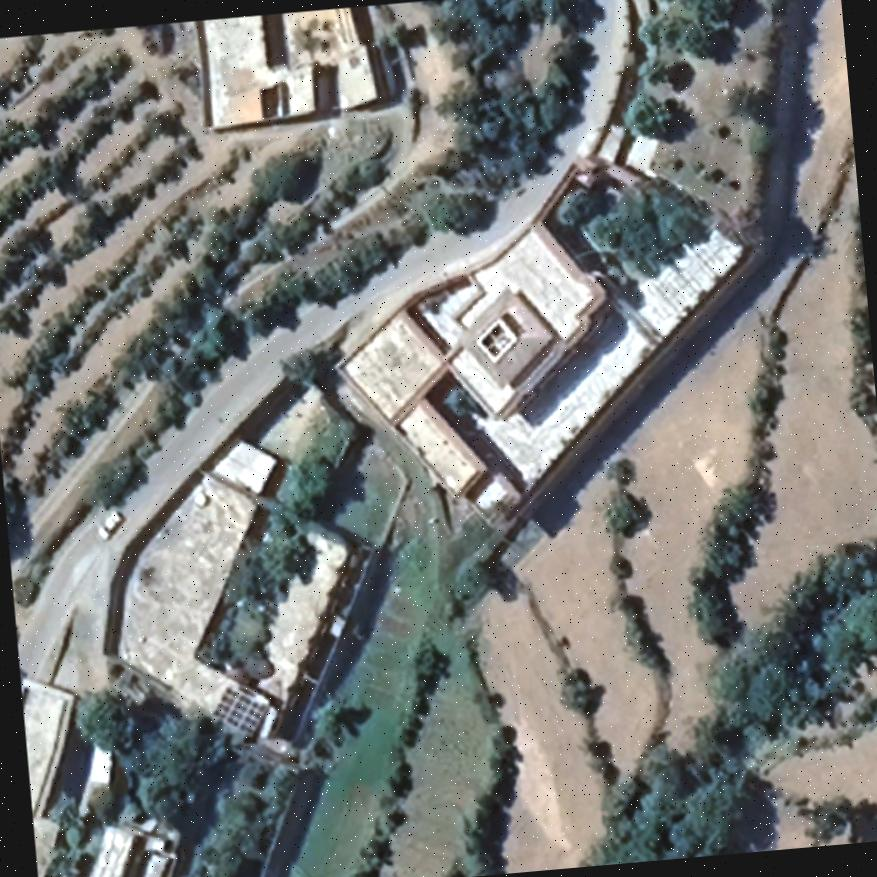Solarpanel: (210, 682, 268, 738)
